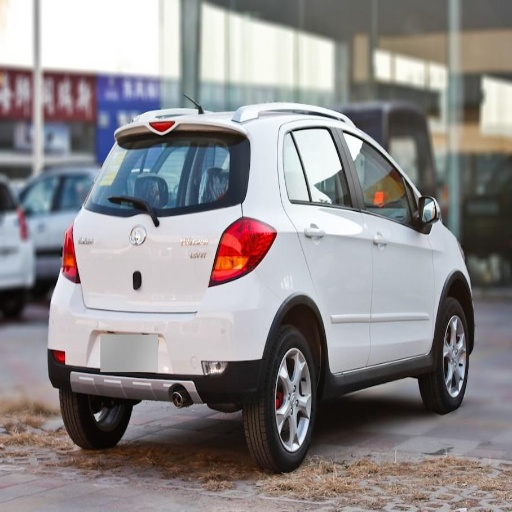back_bumper: (49, 270, 283, 410)
back_right_door: (281, 120, 373, 372)
trunk: (77, 211, 238, 311)
